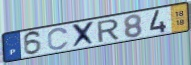4: (149, 8, 169, 34)
6: (22, 29, 45, 58)
8: (122, 13, 144, 39)
C: (47, 27, 71, 51)
R: (96, 18, 121, 44)
X: (71, 20, 97, 50)
